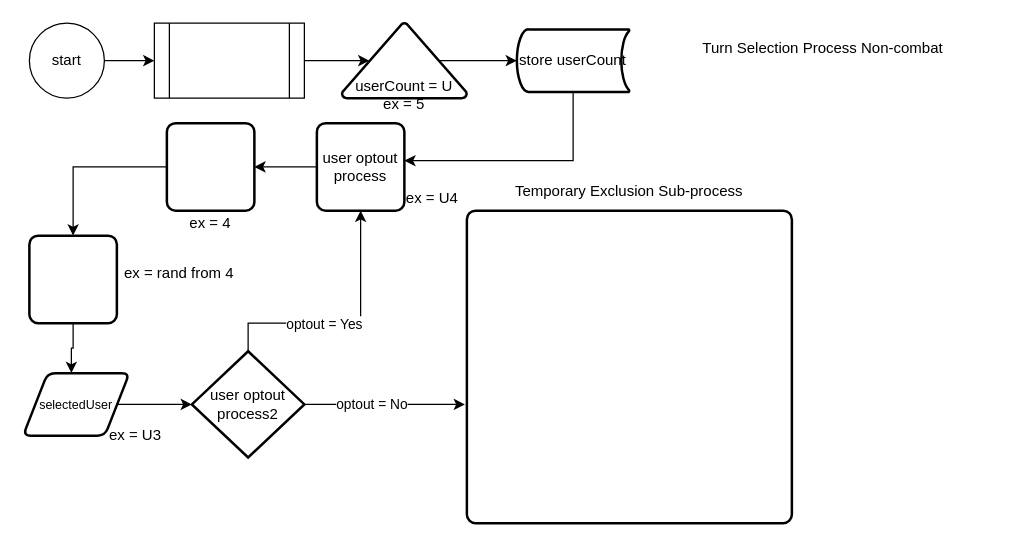
This 1013x545 diagram has some shape labels left out. Each missing label, with the centre of its shape:
"randomfrom userCount" goes at [73,279].
"userCount - optout" goes at [210,166].
"users join game" goes at [228,60].
